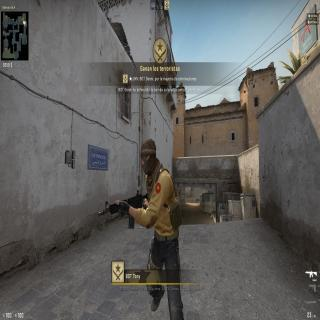T-Head: (139, 134, 159, 178)
